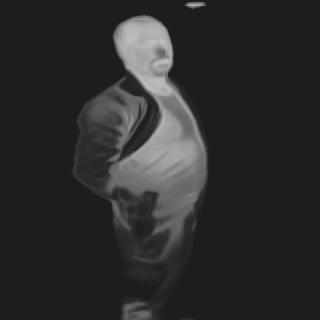Gun: (110, 186, 159, 240)
